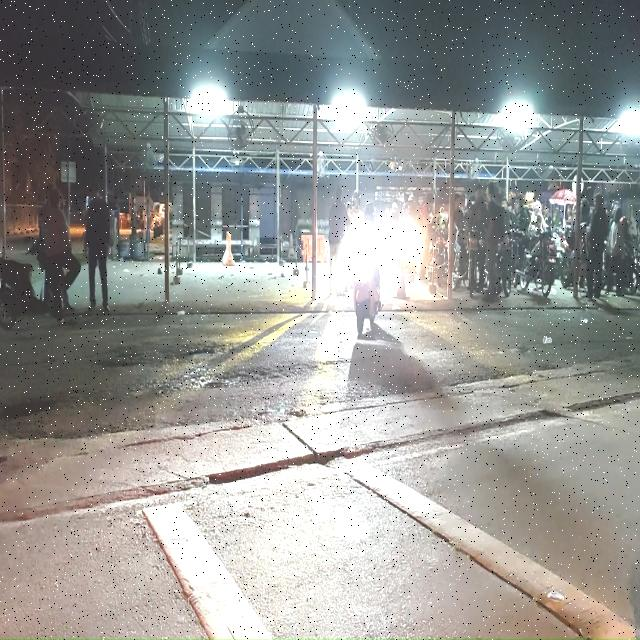Golongan II: (0, 258, 47, 329), (353, 228, 380, 336), (517, 230, 556, 298), (558, 222, 588, 289), (485, 234, 513, 298), (427, 229, 448, 288), (468, 229, 484, 298), (496, 234, 513, 298), (452, 228, 469, 290)
